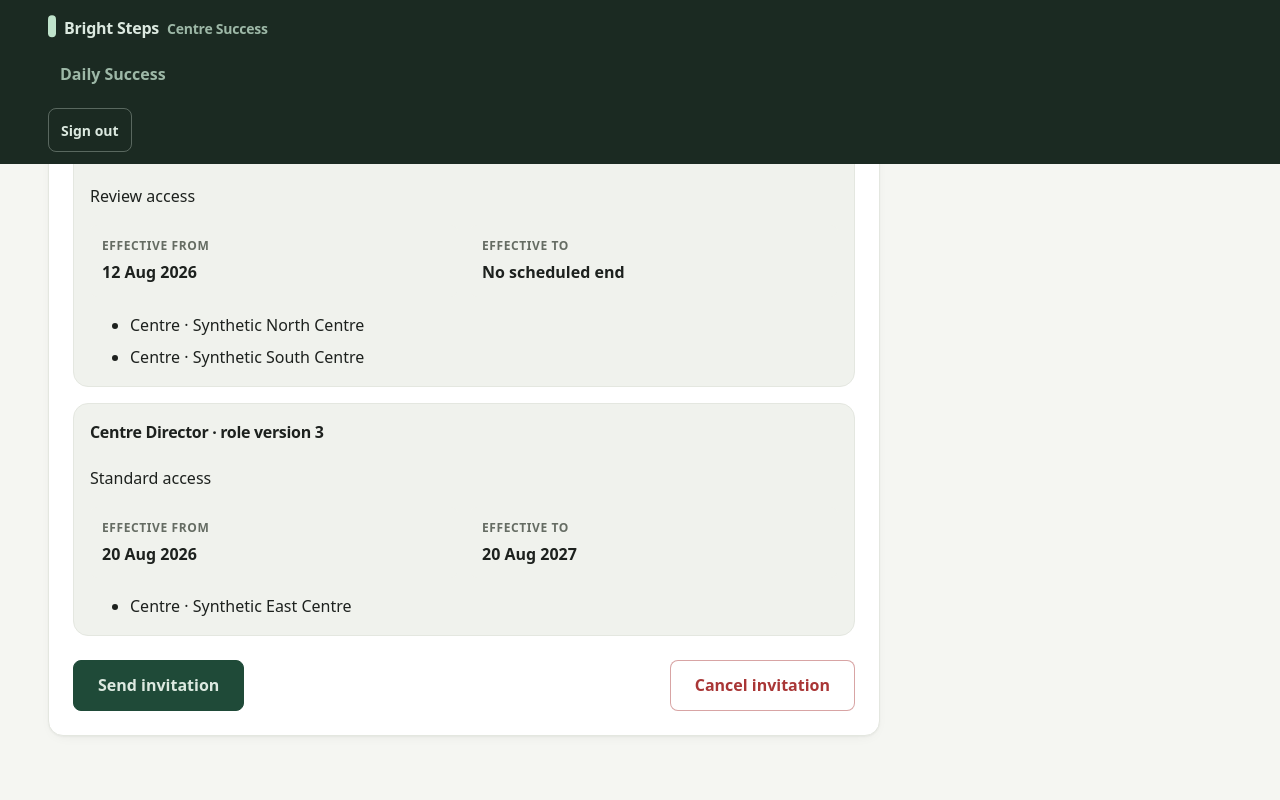
Test: Milestone 2C People & Access experience › keeps cancellation open and shows permission denial inside it
(page scrolled)
Click the button "Cancel invitation" at (762,686), box [670,660,855,711]
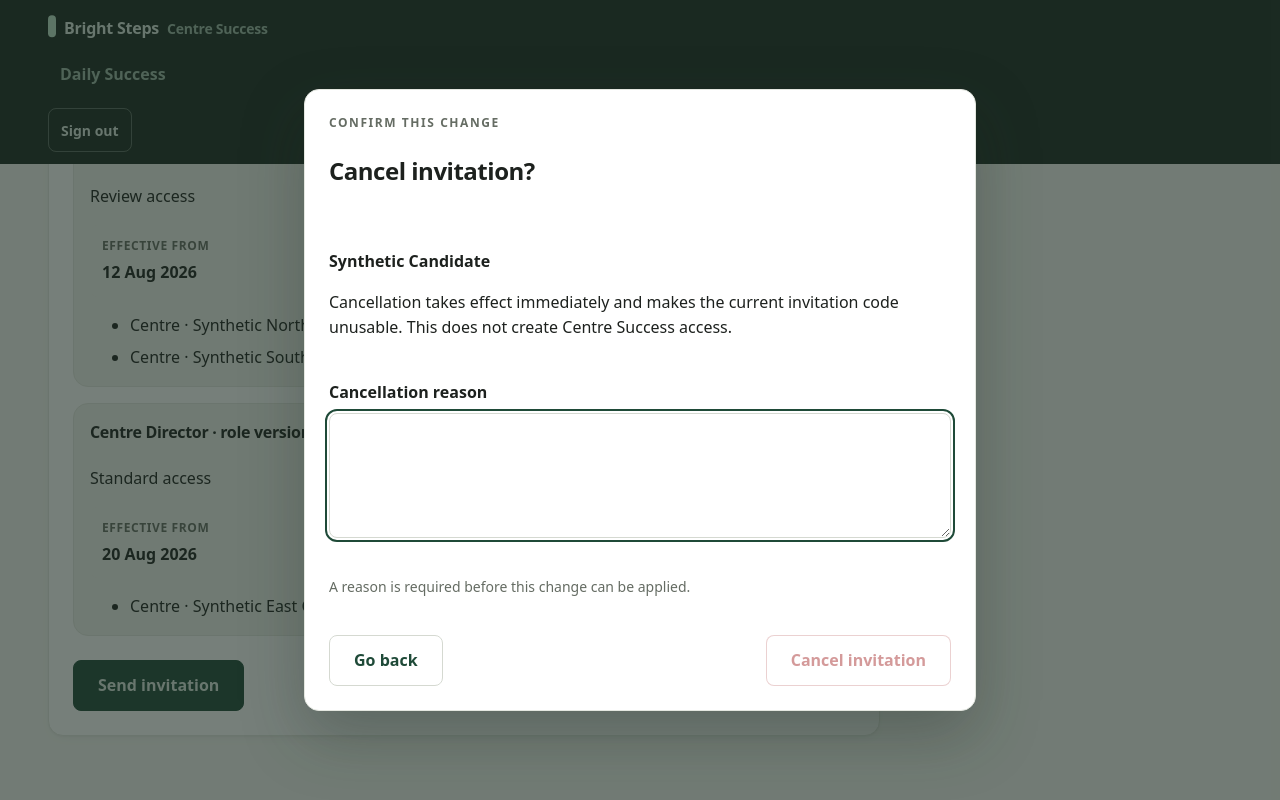
Type "Reviewed cancellation request" into the text box labelled "Cancellation reason" at (640,475), box [329,412,951,538]
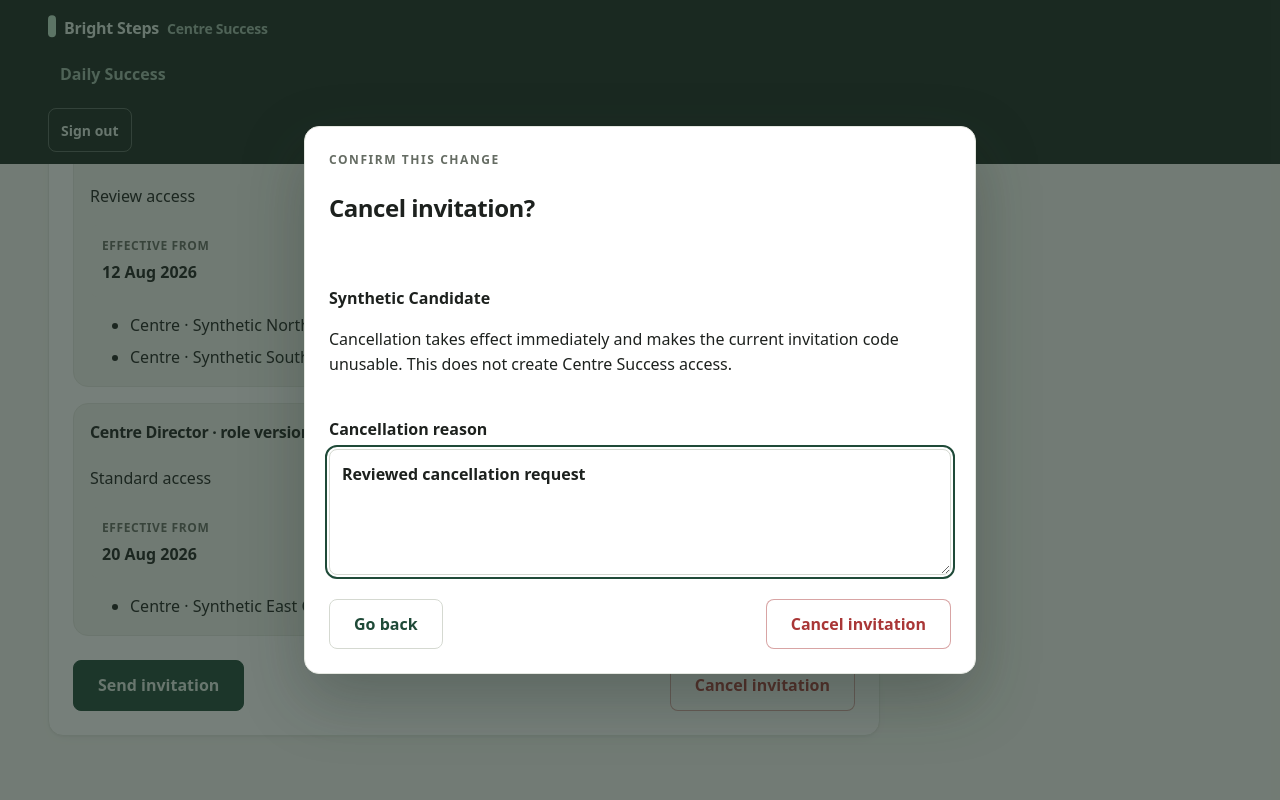
Click the button "Cancel invitation" at (858,624), box [766,599,951,649]
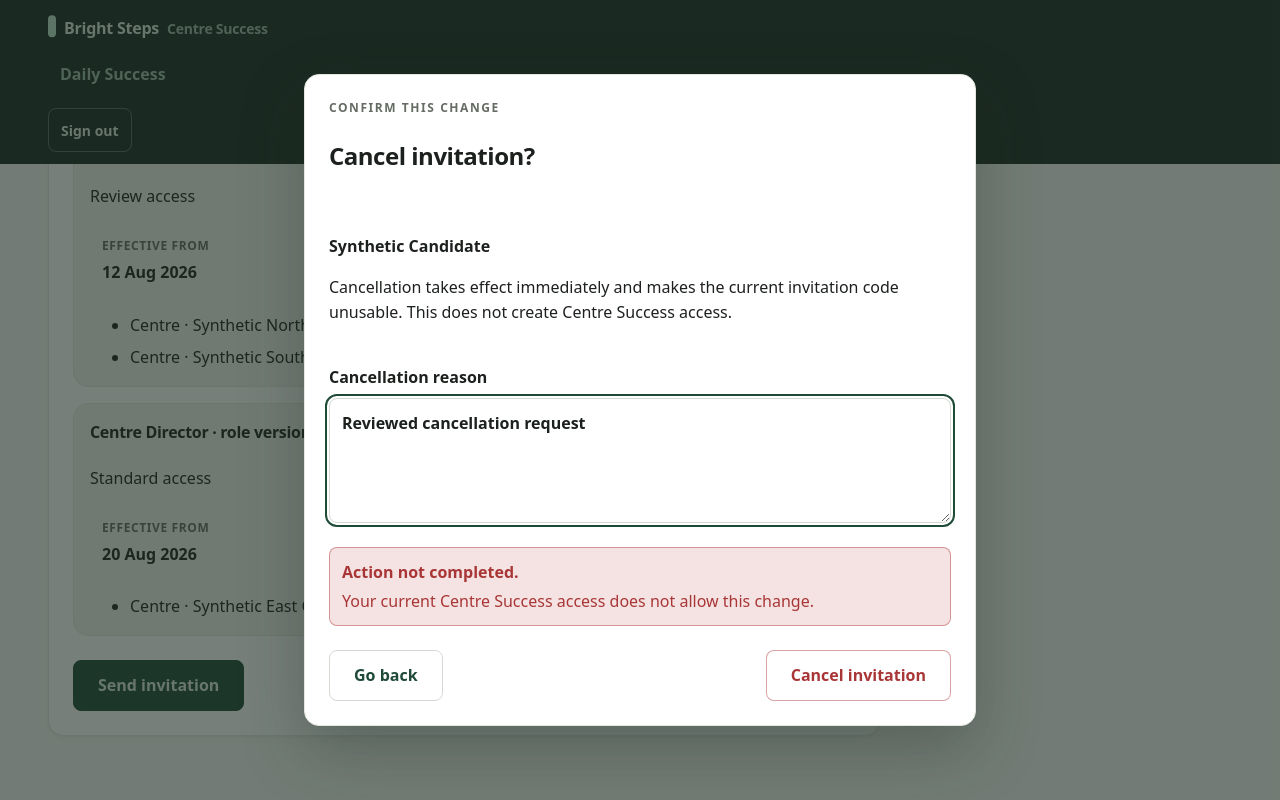
Check: the message shows "current Centre Success access does not allow", box [342,590,814,612]
